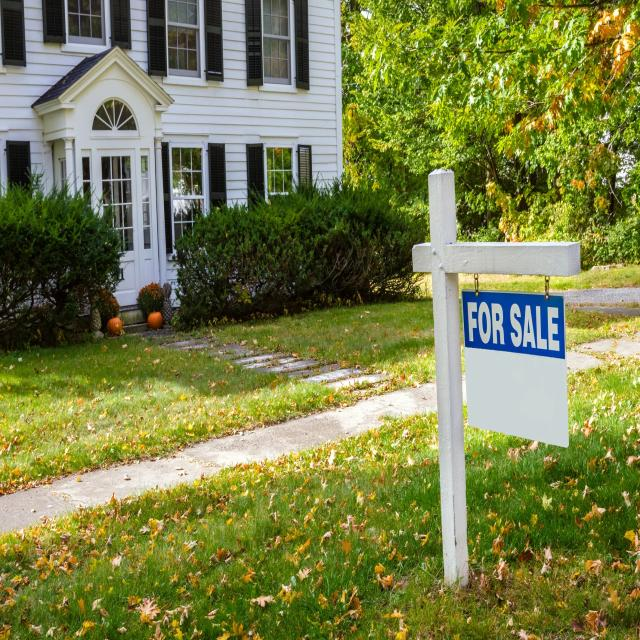House: (0, 3, 346, 302)
